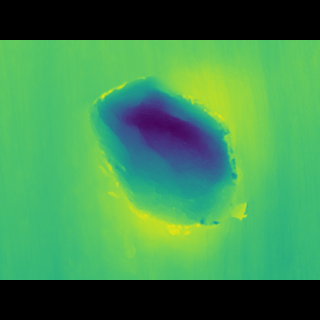Loch: (81, 92, 254, 242)
